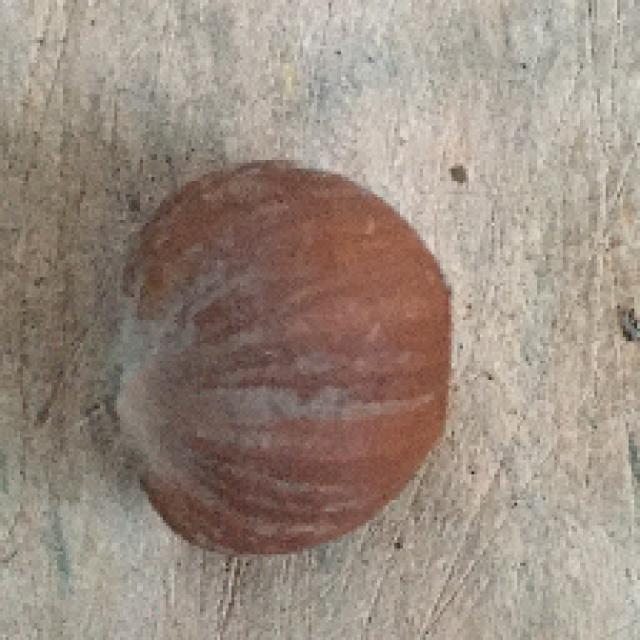damagedHazelnut: (100, 158, 459, 564)
